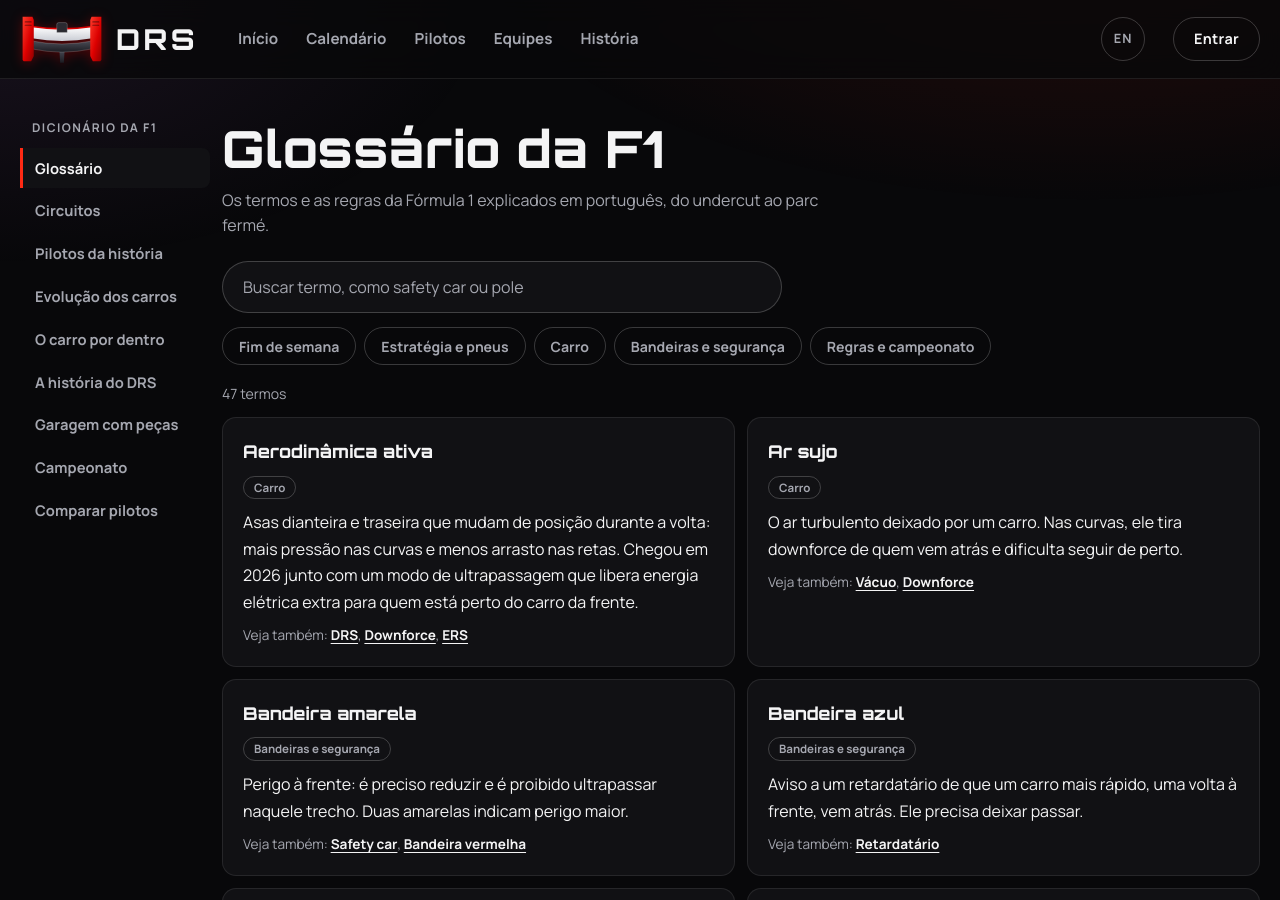
Test: Conteúdo do dicionário em inglês › traduz os termos do glossário e mantém os links entre eles
The width and height of the screenshot is (1280, 900).
Click the button with aria-label "Read in English" at (1123, 39), box left=1101, top=17, right=1145, bottom=61
(page scrolled)
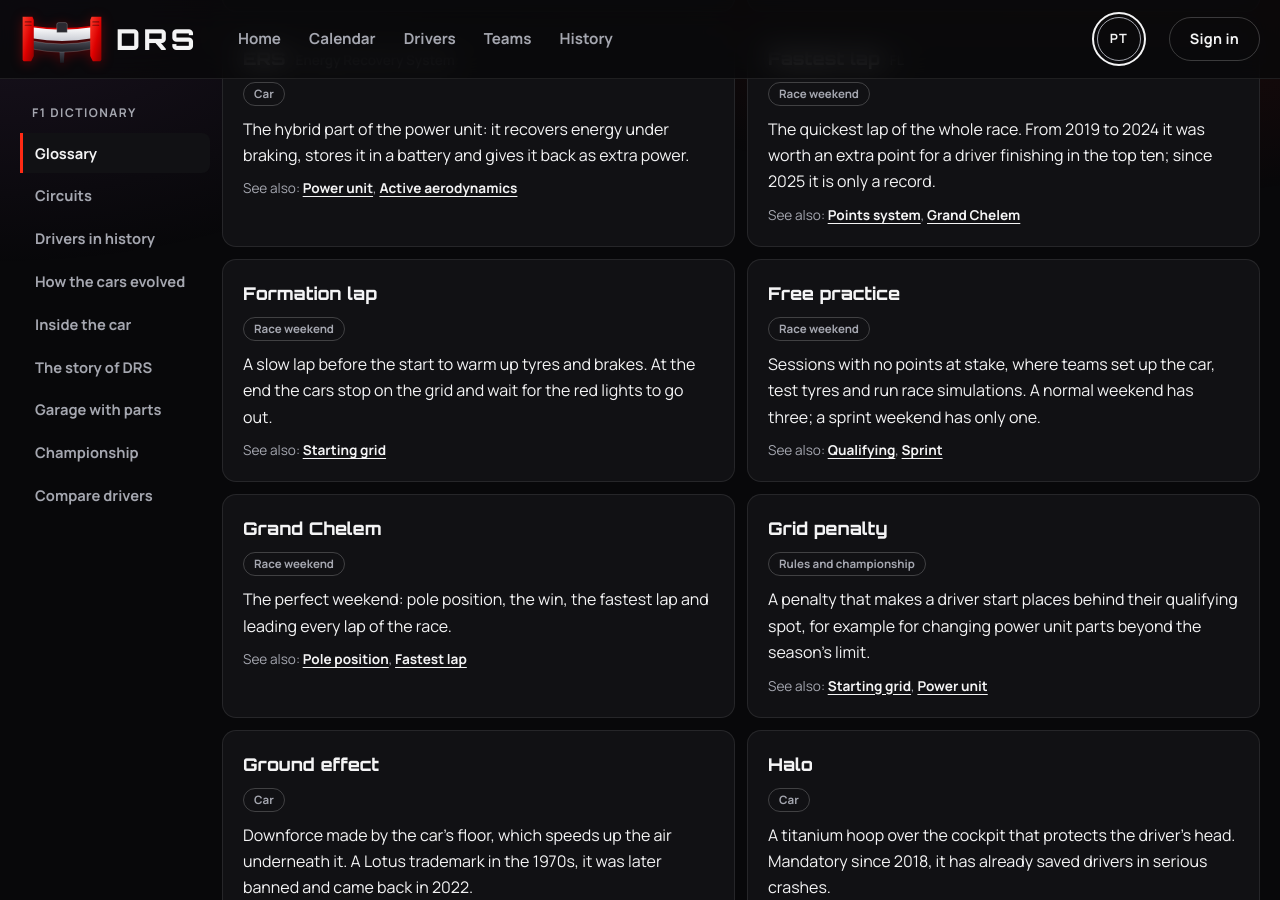
Expected: the text "Free practice" is shown, left=768, top=282, right=900, bottom=304
Expected: the link "Qualifying" is shown, left=828, top=441, right=895, bottom=459
